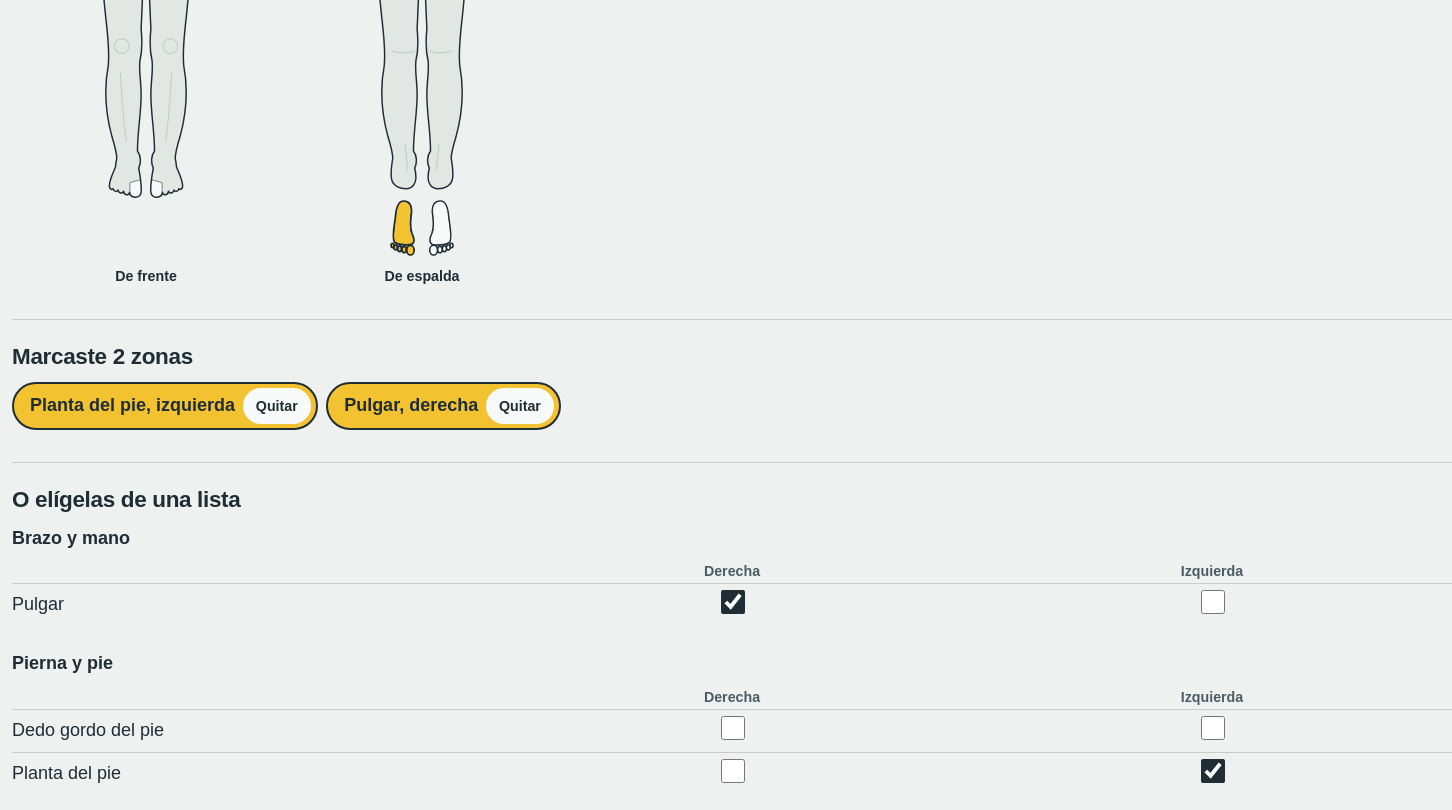
MapStep › cada zona marcada se puede quitar desde la lista de marcadas
This screenshot has width=1452, height=810.
(page scrolled)
Click the button with aria-label "Quitar Planta del pie, izquierda" at (277, 406), box [243,388,311,424]
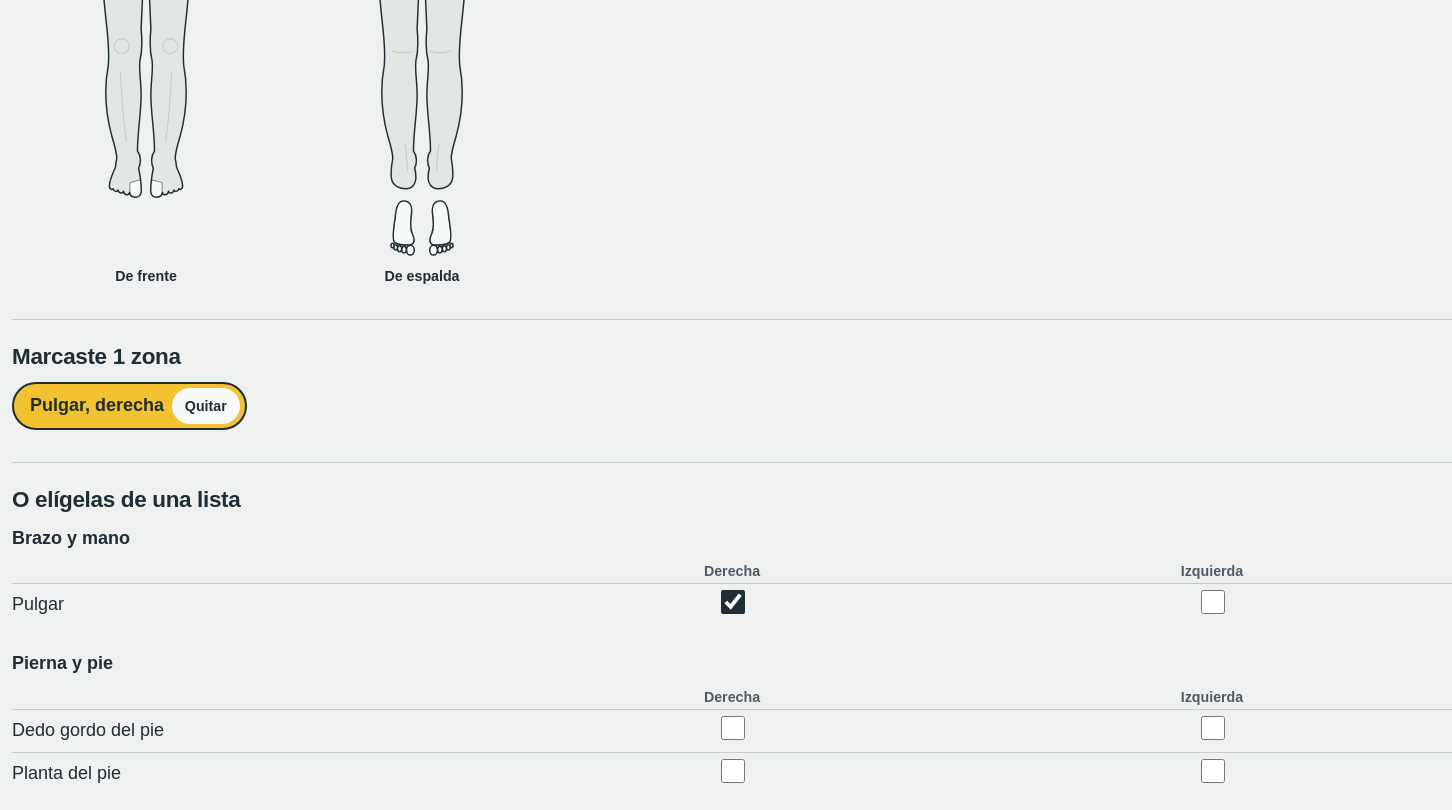
Result: the checkbox named "Planta del pie, izquierda" is not checked at [1200,759,1224,783]
